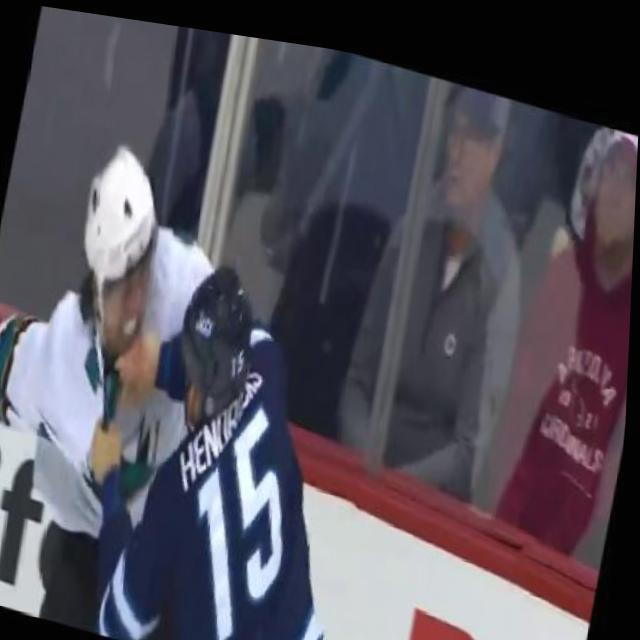fight: (0, 109, 366, 640)
